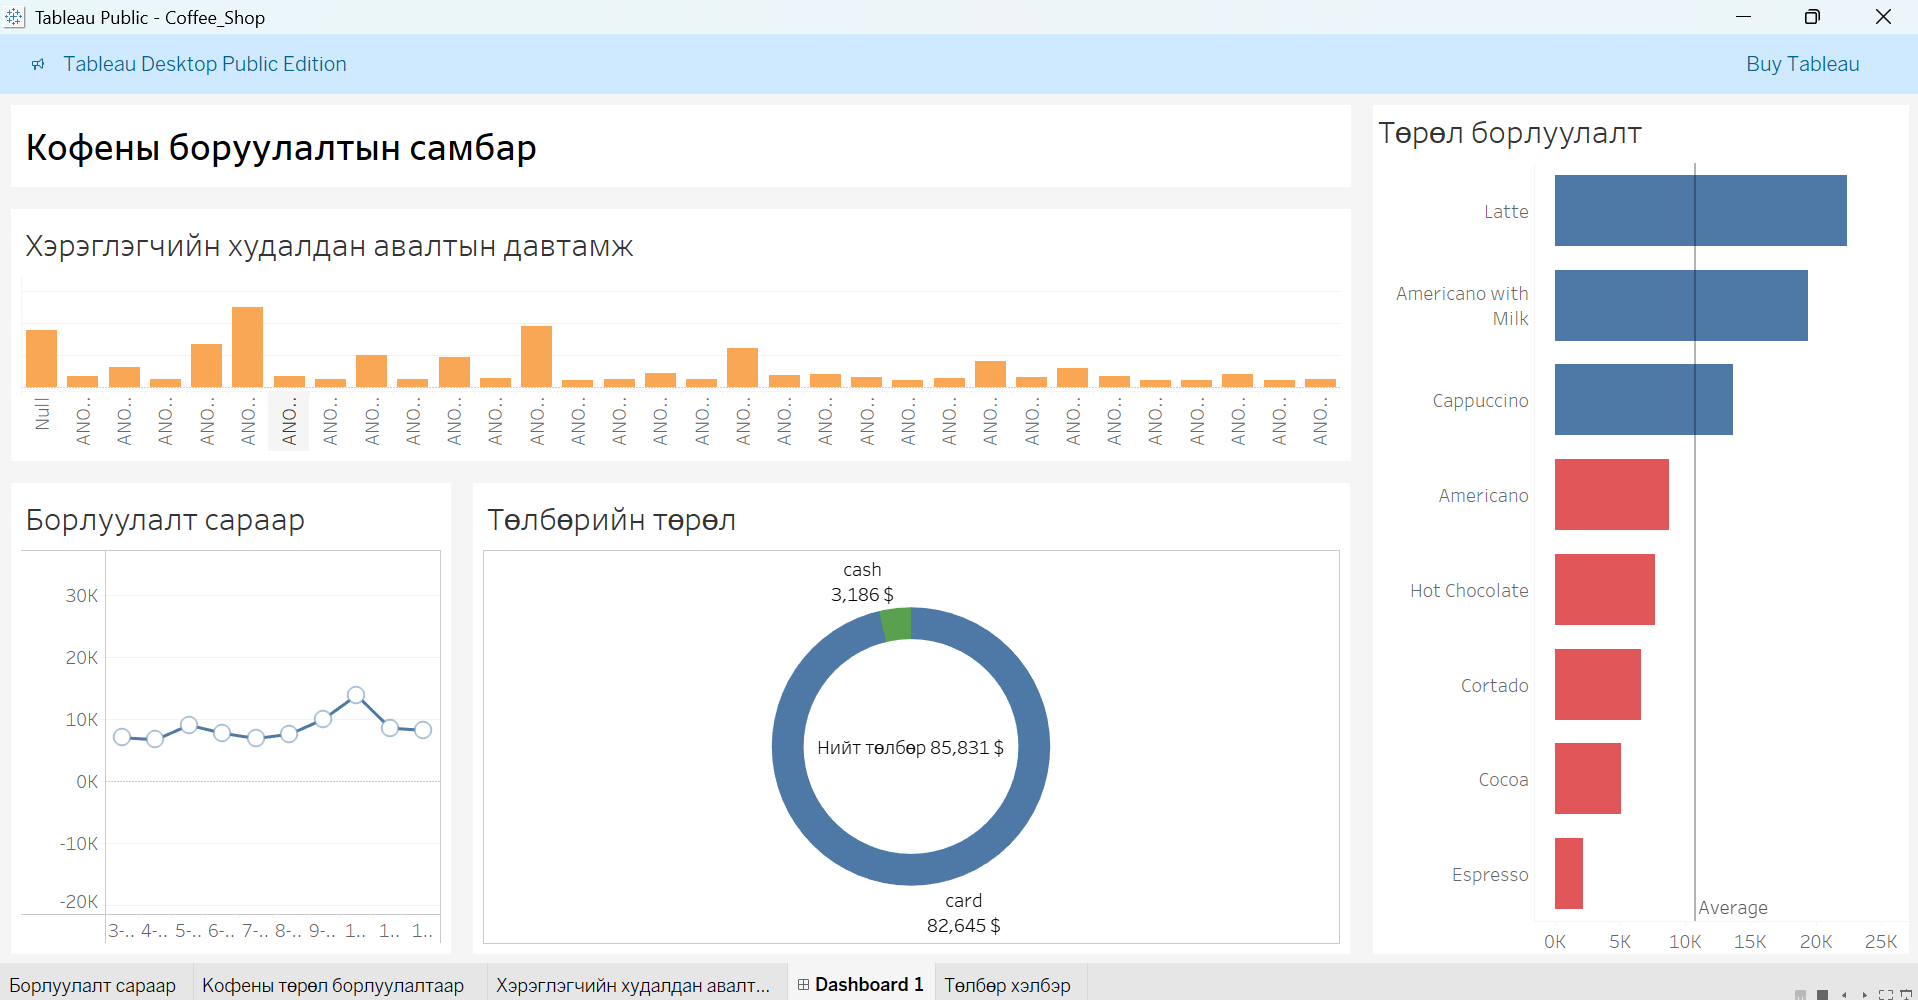

What the dashboard file says about the page in this screenshot:
{"tool":"tableau","page":{"name":"Dashboard 1","canvas":[1000,1000],"units":"permille","ordinal":0},"visuals":[{"type":"text","box":[0,0,622.7,139.4]},{"type":"worksheet","title":"Кофены төрөл борлуулалтаар","mark":"Automatic","rows":["coffee_name"],"cols":["money"],"box":[622.7,0,377,1002.7]},{"type":"worksheet","title":"Хэрэглэгчийн худалдан авалтын давтамж","mark":"Automatic","rows":["index_1.csv_118C1F7B8F634439A83B36200327B7A1"],"cols":["card"],"box":[0,139.4,622.7,367.3]},{"type":"worksheet","title":"Борлуулалт сараар","mark":"Automatic","rows":["money","money"],"cols":["datetime"],"box":[0,506.7,312.2,496]},{"type":"worksheet","title":"Төлбөр хэлбэр","mark":"Pie","rows":["Calculation_970525778793848839","Calculation_970525778793848839"],"box":[312.2,506.7,310.6,496]}]}

Visuals, with their boxes on the dashboard's canvas, which has no fixed pixel size, in thousandths of its width and height (x1, y1, x2, y2). These are canvas units, not pixel positions in the 1918x1000 screenshot, which may show the page scaled, cropped or inside an application window:
text: locate(0, 0, 623, 139)
"Кофены төрөл борлуулалтаар" worksheet: locate(623, 0, 1000, 1003)
"Хэрэглэгчийн худалдан авалтын давтамж" worksheet: locate(0, 139, 623, 507)
"Борлуулалт сараар" worksheet: locate(0, 507, 312, 1003)
"Төлбөр хэлбэр" worksheet (Pie marks): locate(312, 507, 623, 1003)
